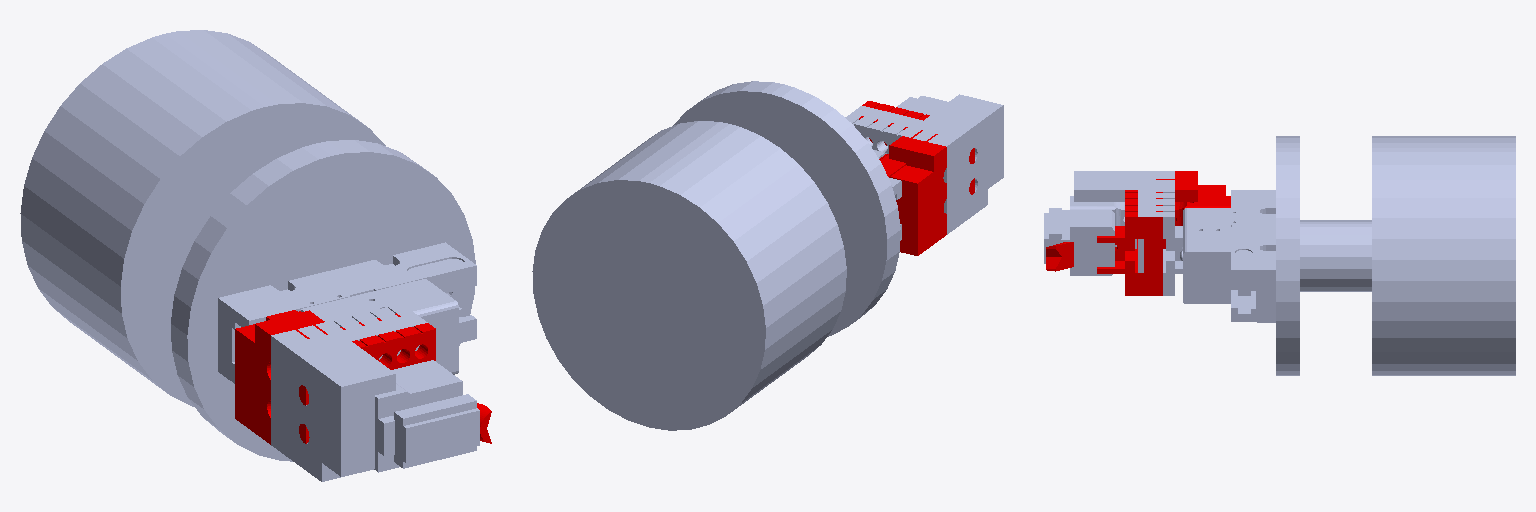
The robot description file, URDF, robot "gripper_assembly":
<robot
  name="gripper_assembly">
  <link
    name="GripperBase">
    <inertial>
      <origin
        xyz="0.029072 0.059306 -0.024512"
        rpy="0 0 0" />
      <mass
        value="1.1697" />
      <inertia
        ixx="9.7204E-07"
        ixy="-1.2761E-13"
        ixz="4.8457E-10"
        iyy="9.7204E-07"
        iyz="2.5598E-10"
        izz="3.0898E-13" />
    </inertial>
    <visual>
      <origin
        xyz="0 0 0"
        rpy="0 0 0" />
      <geometry>
        <mesh
          filename="package://gripper_assembly/meshes/GripperBase.STL" />
      </geometry>
      <material
        name="">
        <color
          rgba="0.79216 0.81961 0.93333 1" />
      </material>
    </visual>
    <collision>
      <origin
        xyz="0 0 0"
        rpy="0 0 0" />
      <geometry>
        <mesh
          filename="package://gripper_assembly/meshes/GripperBase.STL" />
      </geometry>
    </collision>
  </link>
  <link
    name="Finger1">
    <inertial>
      <origin
        xyz="-0.01775 0.077561 -0.0015192"
        rpy="0 0 0" />
      <mass
        value="0.004984" />
      <inertia
        ixx="1.4851E-07"
        ixy="3.1016E-08"
        ixz="-7.3639E-10"
        iyy="6.565E-09"
        iyz="3.524E-09"
        izz="1.5491E-07" />
    </inertial>
    <visual>
      <origin
        xyz="0 0 0"
        rpy="0 0 0" />
      <geometry>
        <mesh
          filename="package://gripper_assembly/meshes/Finger1.STL" />
      </geometry>
      <material
        name="">
        <color
          rgba="1 0 0 1" />
      </material>
    </visual>
    <collision>
      <origin
        xyz="0 0 0"
        rpy="0 0 0" />
      <geometry>
        <mesh
          filename="package://gripper_assembly/meshes/Finger1.STL" />
      </geometry>
    </collision>
  </link>
  <joint
    name="Joint1"
    type="prismatic">
    <origin
      xyz="0 -0.070202 0.059329"
      rpy="6.123E-17 4.5912E-49 3.1416" />
    <parent
      link="GripperBase" />
    <child
      link="Finger1" />
    <axis
      xyz="-1 0 0" />
    <limit
      effort="0"
      velocity="0" />
  </joint>
  <link
    name="Finger2">
    <inertial>
      <origin
        xyz="-0.0025535 0.011322 -0.030358"
        rpy="0 0 0" />
      <mass
        value="0.004984" />
      <inertia
        ixx="1.5491E-07"
        ixy="-7.3639E-10"
        ixz="-3.524E-09"
        iyy="1.4851E-07"
        iyz="-3.1016E-08"
        izz="6.565E-09" />
    </inertial>
    <visual>
      <origin
        xyz="0 0 0"
        rpy="0 0 0" />
      <geometry>
        <mesh
          filename="package://gripper_assembly/meshes/Finger2.STL" />
      </geometry>
      <material
        name="">
        <color
          rgba="0.79216 0.81961 0.93333 1" />
      </material>
    </visual>
    <collision>
      <origin
        xyz="0 0 0"
        rpy="0 0 0" />
      <geometry>
        <mesh
          filename="package://gripper_assembly/meshes/Finger2.STL" />
      </geometry>
    </collision>
  </link>
  <joint
    name="Joint2"
    type="prismatic">
    <origin
      xyz="0.029072 -0.1174 0.060364"
      rpy="1.5708 -1.5708 0" />
    <parent
      link="GripperBase" />
    <child
      link="Finger2" />
    <axis
      xyz="0 1 0" />
    <limit
      effort="0"
      velocity="0" />
  </joint>
</robot>

--- What the picture shows (computed from the rendered views, not written in the file) ---
The picture shows the robot from 3 angles, left to right: view 1: azimuth 30°, elevation 25°; view 2: azimuth 150°, elevation 25°; view 3: azimuth 270°, elevation 25°; orthographic projection.
Robot: gripper_assembly — 3 links, 2 joints (2 prismatic); root link GripperBase; default pose: every joint at zero.
Visible links, largest first — view 1: GripperBase, Finger2, Finger1; view 2: GripperBase, Finger2, Finger1; view 3: GripperBase, Finger2, Finger1.
Boxes of the visible links, x1,y1,x2,y2 form: GripperBase: (20,30,476,461); Finger2: (271,304,479,481); Finger1: (235,310,491,444); GripperBase: (532,81,901,430); Finger2: (845,94,1003,234); Finger1: (859,101,974,255); GripperBase: (1180,136,1515,375); Finger2: (1044,171,1182,295); Finger1: (1046,171,1230,295).
Size in the robot's own frame: 0.1269 by 0.2495 by 0.127 metres.
3 mesh visuals loaded from 3 distinct referenced files (3 binary STL).